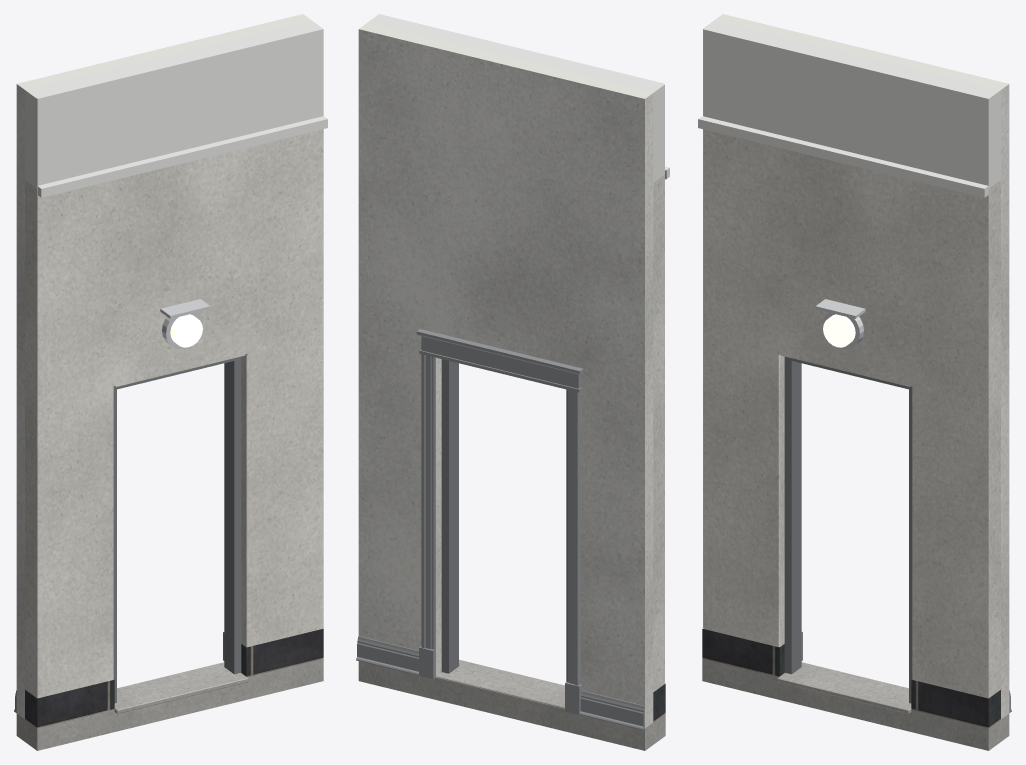
The model's file is s_door_s.glb.
3 renders of one model, left to right at view 1: azimuth 30°, elevation 25°; view 2: azimuth 150°, elevation 25°; view 3: azimuth 330°, elevation 25°, orthographic.
Parts seen in each view (by area): view 1: s_door_s_render, s_door_s_panel_w, s_door_s_concrete, s_door_s_plaster, s_door_s_steel_d, s_door_s_block_d, s_door_s_metal, s_door_s_lamp_glass; view 2: s_door_s_plaster, molduras, s_door_s_concrete, s_door_s_render, s_door_s_steel_d, s_door_s_panel_w; view 3: s_door_s_render, s_door_s_panel_w, s_door_s_concrete, s_door_s_plaster, s_door_s_steel_d, s_door_s_block_d, s_door_s_metal, s_door_s_lamp_glass.
Part boxes in pixels (x1,y1,x2,y2): s_door_s_render: (25,129,323,697); s_door_s_panel_w: (25,20,327,197); s_door_s_concrete: (16,658,323,750); s_door_s_plaster: (16,14,310,718); s_door_s_steel_d: (113,356,241,703); s_door_s_block_d: (25,628,323,728); s_door_s_metal: (160,299,210,349); s_door_s_lamp_glass: (170,314,202,347); s_door_s_plaster: (358,23,653,728); molduras: (356,329,644,730); s_door_s_concrete: (358,660,665,750); s_door_s_render: (653,174,664,691); s_door_s_steel_d: (441,359,566,681); s_door_s_panel_w: (367,14,669,182); s_door_s_render: (703,129,1000,698); s_door_s_panel_w: (698,20,1000,197); s_door_s_concrete: (702,658,1009,750); s_door_s_plaster: (715,14,1009,718); s_door_s_steel_d: (784,356,912,703); s_door_s_block_d: (702,628,1000,728); s_door_s_metal: (815,299,865,349); s_door_s_lamp_glass: (823,314,855,347).
Bounding box in the file's own units: 2 × 4.35 × 0.412.
Materials: 9 (4 with a texture image).
